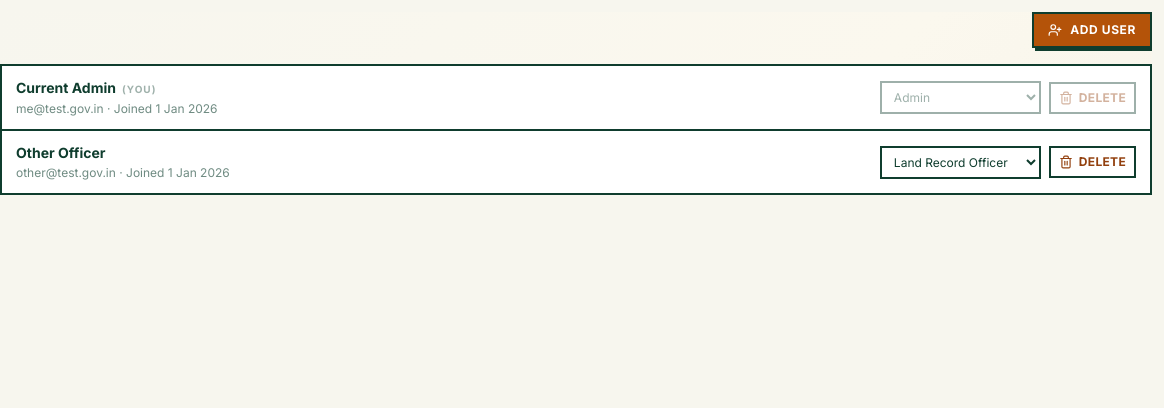
it: UserManagement › creates a new user via the Add User form and refreshes the audit feed elsewhere on the page
The width and height of the screenshot is (1164, 408).
Check: the text "Current Admin" is shown, box [16,79,116,96]
Step 1. Click the button "Add User" → coordinates (1092, 30), box [1032,12,1152,48]
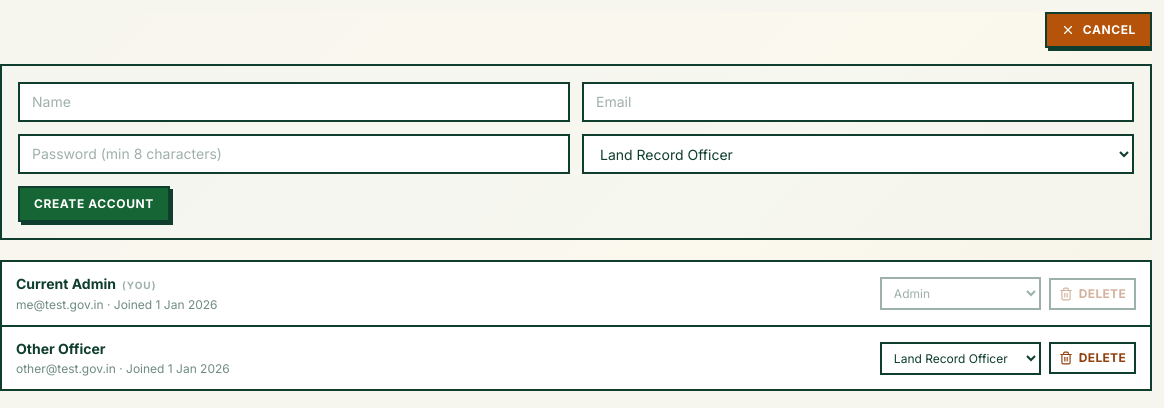
Step 2. Type "New Officer" into the field with placeholder "Name" → coordinates (294, 102), box [18,82,570,122]
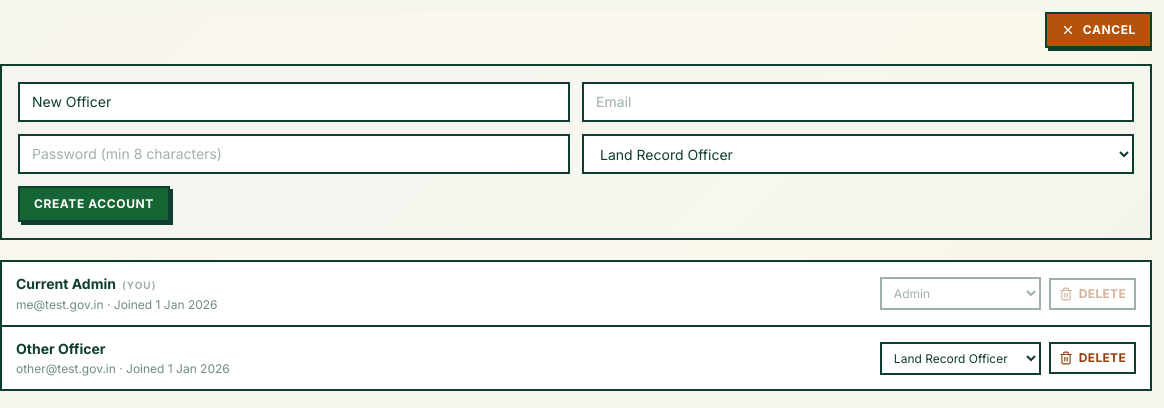
Step 3. Type "new@test.gov.in" into the field with placeholder "Email" → coordinates (858, 102), box [582,82,1134,122]
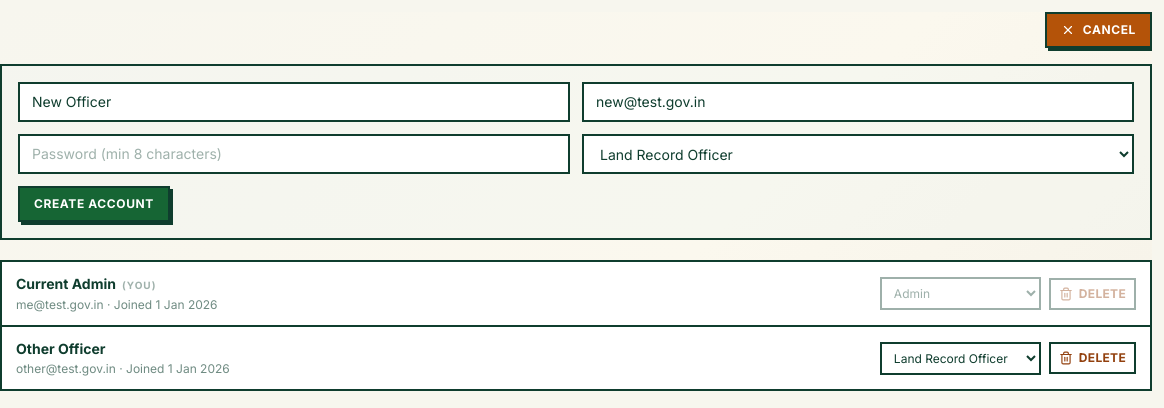
Step 4. Type "SecurePass123" into the password field with placeholder "Password (min 8 characters)" → coordinates (294, 154), box [18,134,570,174]
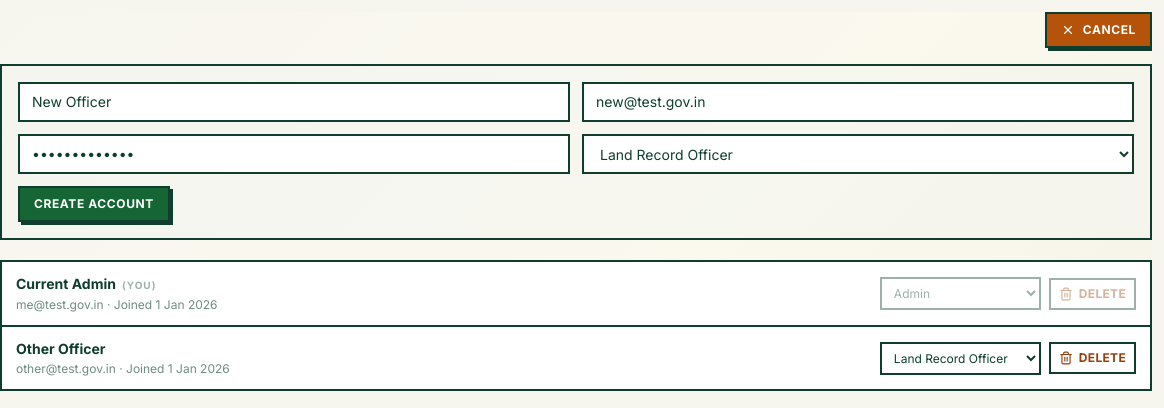
Step 5. Click the button "Create Account" → coordinates (94, 204), box [18,186,170,222]
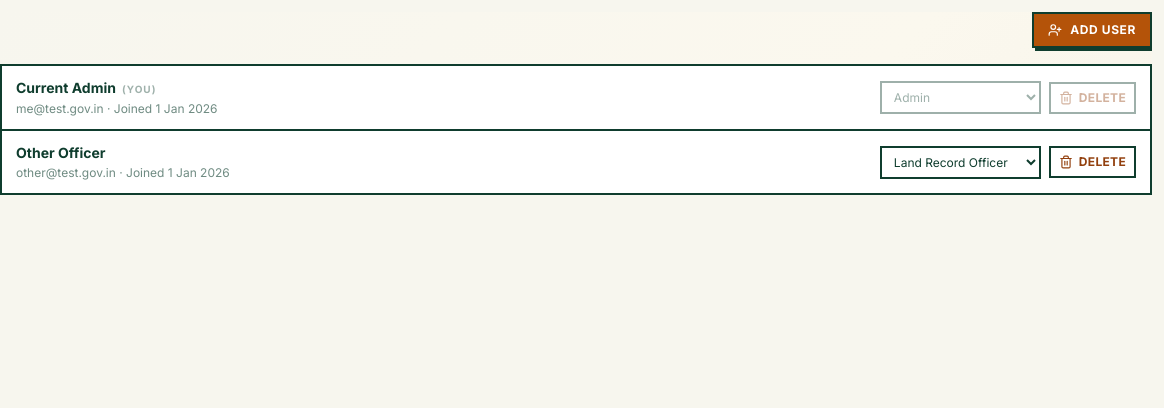
Check: the field with placeholder "Email" is gone
